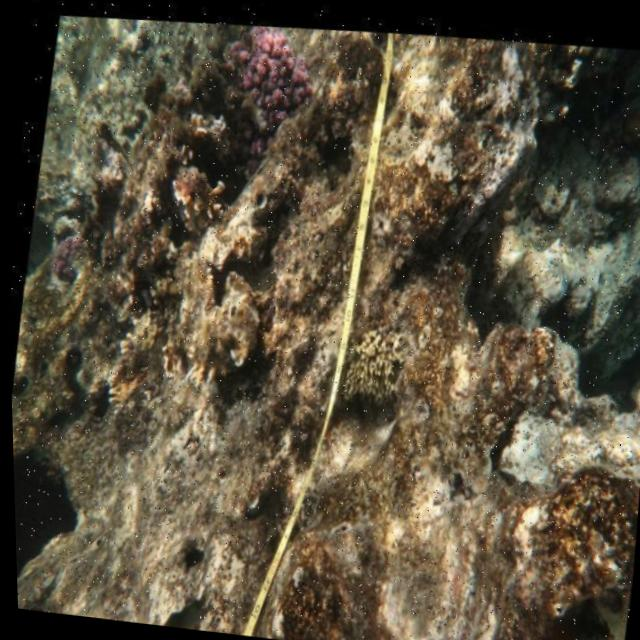Healthy Coral: (220, 11, 326, 124)
